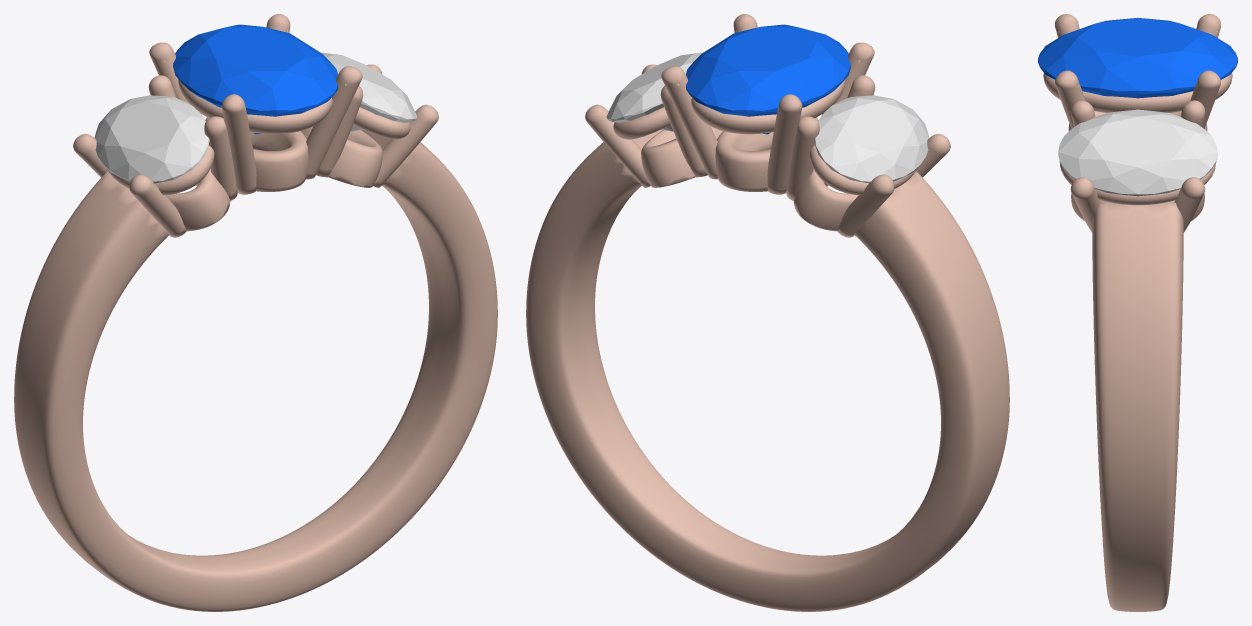
Rendered from bluesapphire-oval-rosegold-4prong-straighttaperedband-3stone.glb.
The picture shows the model from 3 angles, left to right: view 1: azimuth 30°, elevation 25°; view 2: azimuth 150°, elevation 25°; view 3: azimuth 270°, elevation 25°; orthographic projection.
Visible parts, largest first — view 1: metal, stone, side.001, side; view 2: metal, stone, side.001, side; view 3: metal, stone, side.
Part boxes in pixels (<box>): metal: <box>14,14,497,611</box>; stone: <box>173,24,337,134</box>; side.001: <box>94,95,209,183</box>; side: <box>321,52,417,131</box>; metal: <box>526,14,1009,611</box>; stone: <box>686,24,850,134</box>; side.001: <box>814,95,929,183</box>; side: <box>606,52,702,131</box>; metal: <box>1043,14,1232,611</box>; stone: <box>1038,17,1237,98</box>; side: <box>1058,109,1217,196</box>.
Size of the model in its own units: 20.1 by 23.21 by 7.64.
